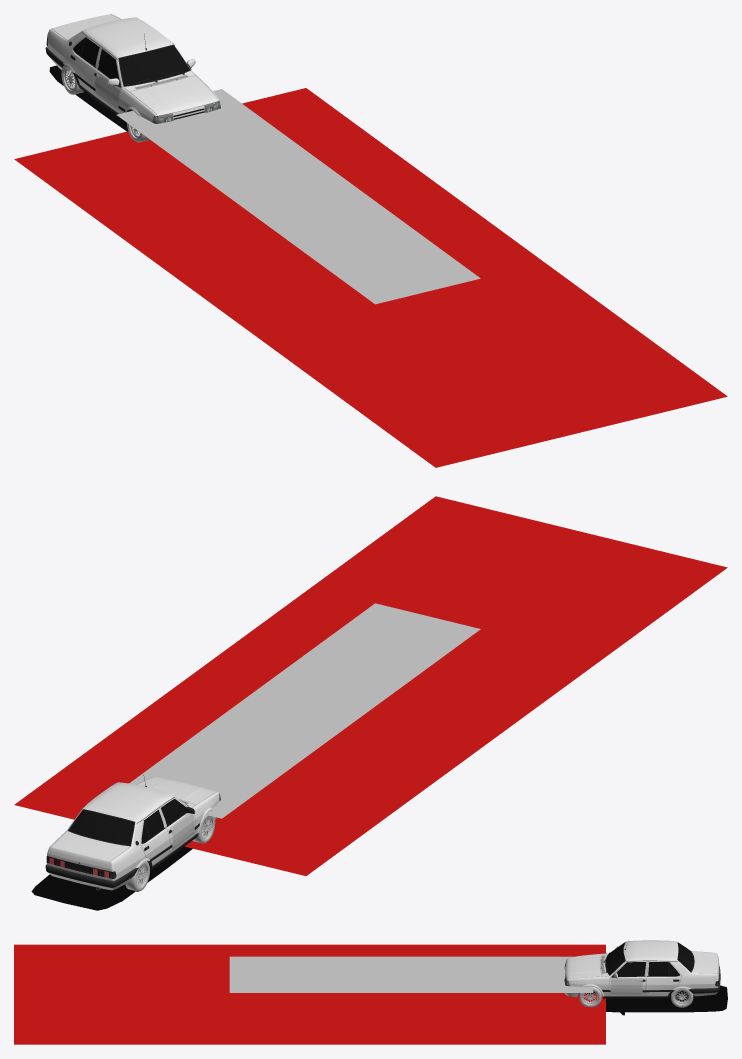
The model's file is car11.fbx.
The picture shows the model from 3 angles, top to bottom: view 1: azimuth 30°, elevation 25°; view 2: azimuth 150°, elevation 25°; view 3: azimuth 270°, elevation 25°; orthographic projection. The views are drawn at different scales.
Parts seen in each view (by area): view 1: light_ground, far_lights, dogan; view 2: light_ground, far_lights, dogan, shadow_car; view 3: light_ground, far_lights, dogan, shadow_car, decalSide, wheel_RL, wheel_FL.
Part boxes in pixels (bbox=[...]): light_ground: bbox=[14, 88, 727, 467]; far_lights: bbox=[116, 89, 480, 304]; dogan: bbox=[45, 14, 220, 123]; light_ground: bbox=[14, 496, 727, 875]; far_lights: bbox=[129, 603, 480, 818]; dogan: bbox=[45, 775, 220, 890]; shadow_car: bbox=[31, 846, 192, 910]; light_ground: bbox=[14, 944, 605, 1044]; far_lights: bbox=[229, 956, 593, 992]; dogan: bbox=[564, 940, 720, 998]; shadow_car: bbox=[606, 985, 727, 1015]; decalSide: bbox=[610, 978, 642, 994]; wheel_RL: bbox=[671, 988, 693, 1007]; wheel_FL: bbox=[579, 987, 601, 1006].
Size of the model in its own units: 45.12 by 11.79 by 136.
